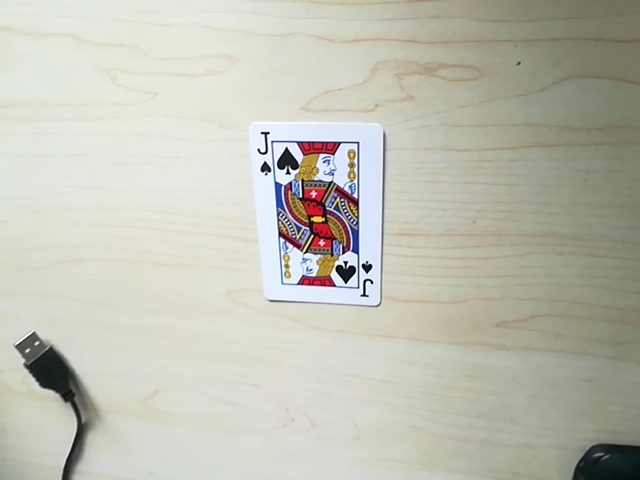ht j: (258, 131, 339, 171), (287, 261, 366, 299)
